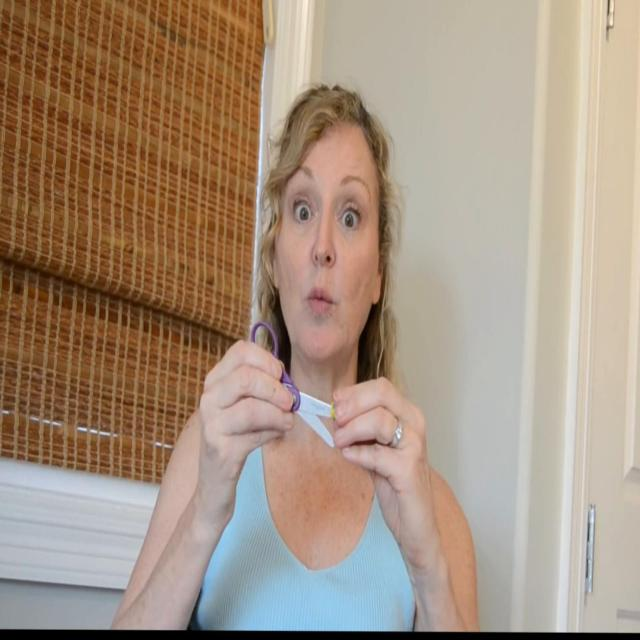scissor: (252, 320, 336, 448)
